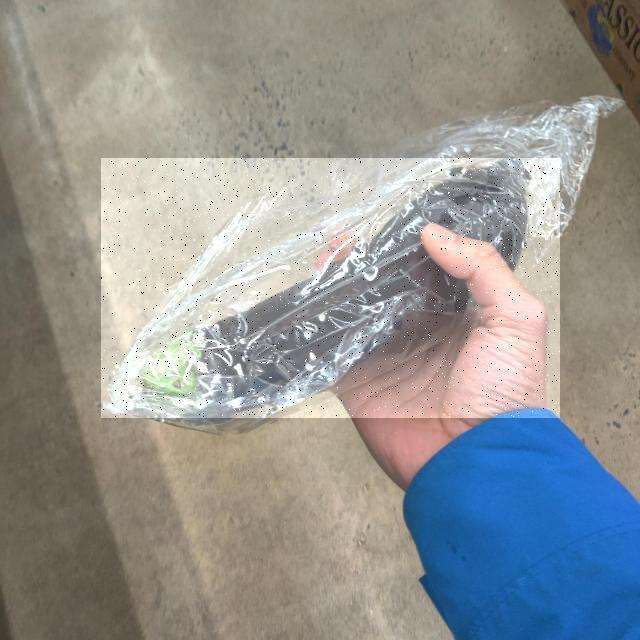Egg Plant: (101, 158, 560, 418)
